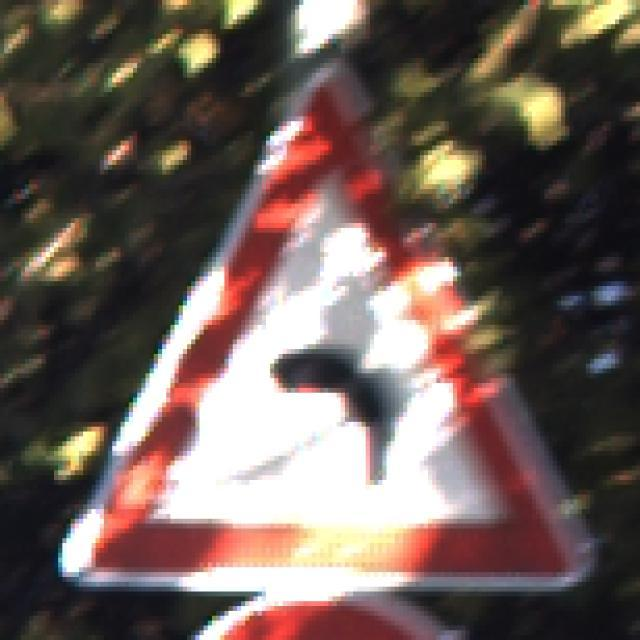left hand curve: (58, 45, 601, 586)
